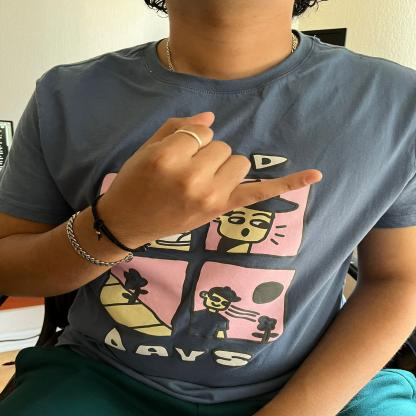J: (95, 106, 328, 236)
